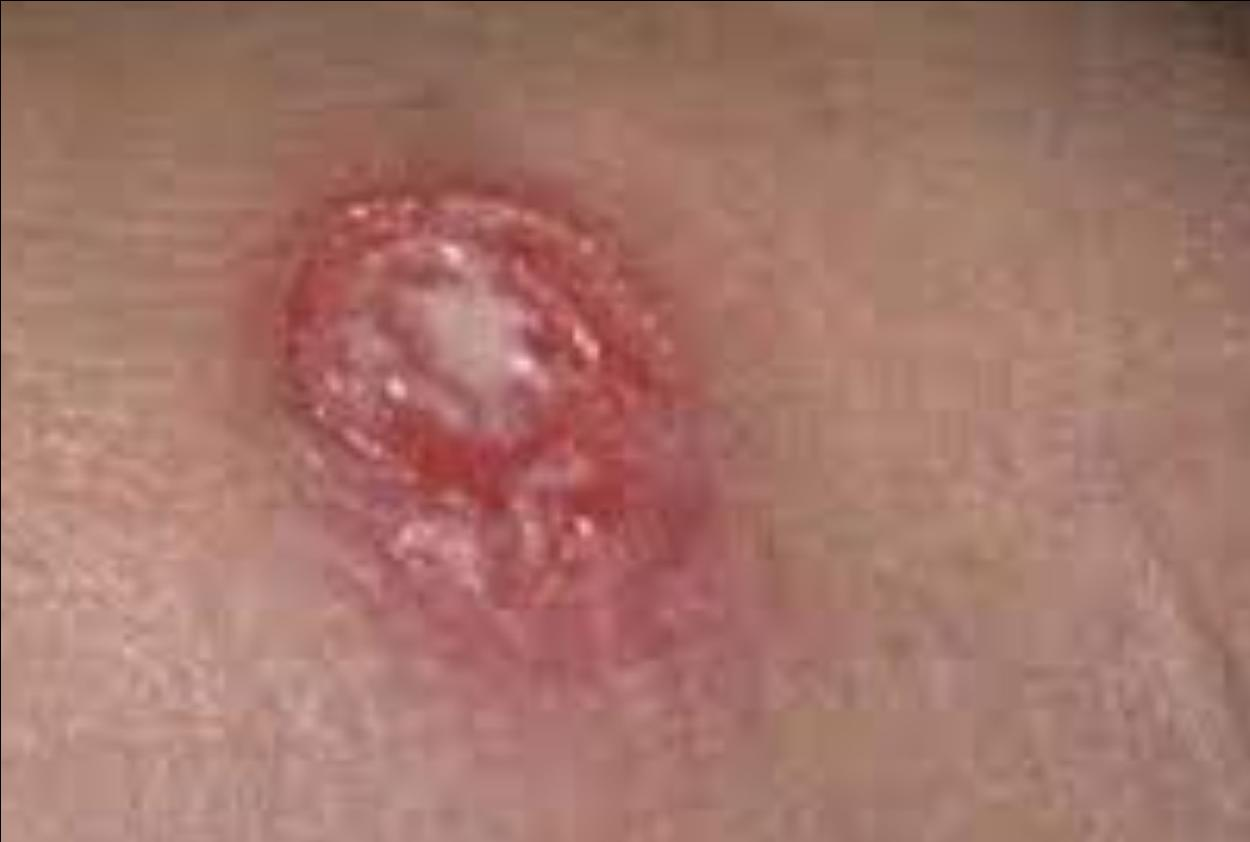Stage2: (264, 116, 747, 644)
